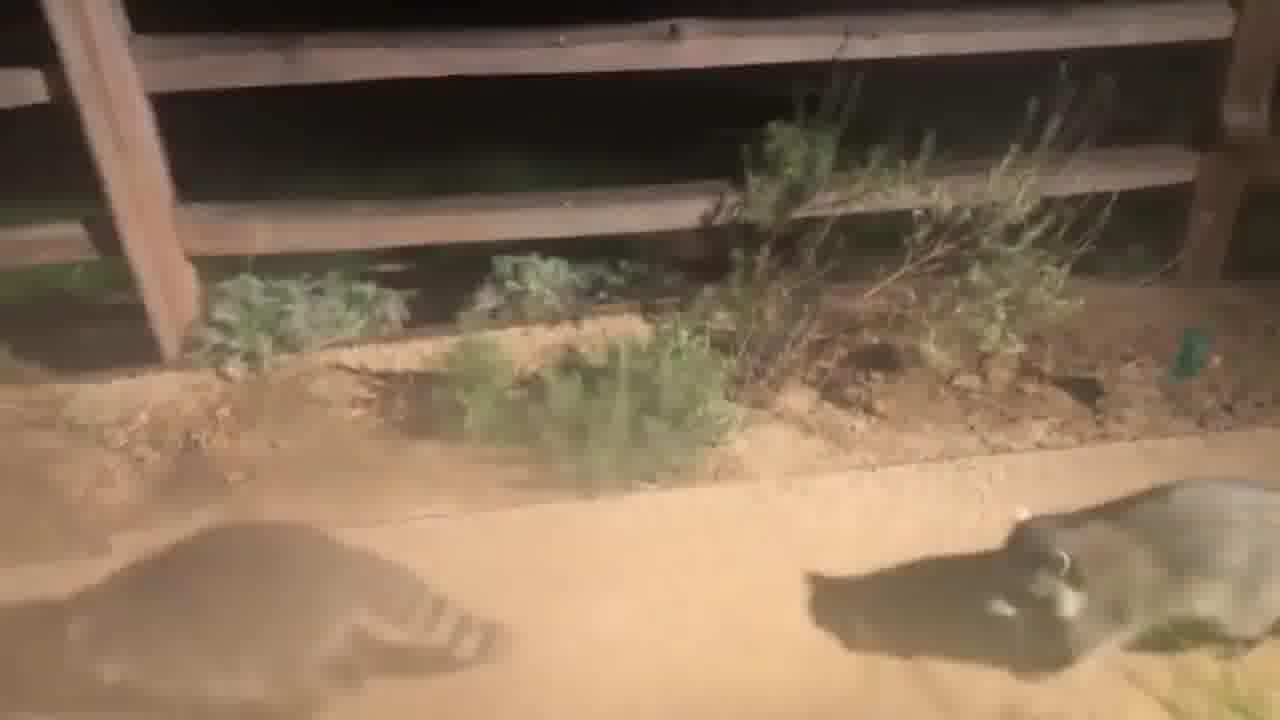raccoon: (61, 515, 514, 720), (981, 471, 1280, 673)
